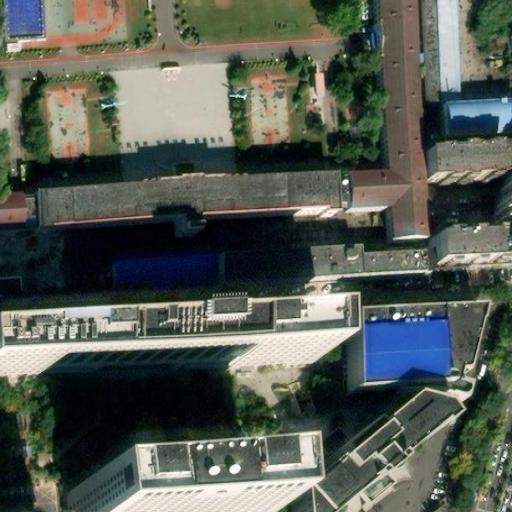building: (32, 171, 333, 222), (0, 318, 318, 366), (282, 417, 433, 512), (346, 310, 436, 399), (66, 479, 249, 512), (106, 137, 235, 181), (420, 0, 460, 136), (214, 248, 357, 283), (431, 310, 476, 403), (119, 249, 214, 281), (443, 104, 512, 147), (424, 143, 502, 178), (436, 235, 510, 263), (357, 250, 417, 278), (0, 189, 30, 226), (494, 176, 512, 222), (0, 265, 18, 299)
